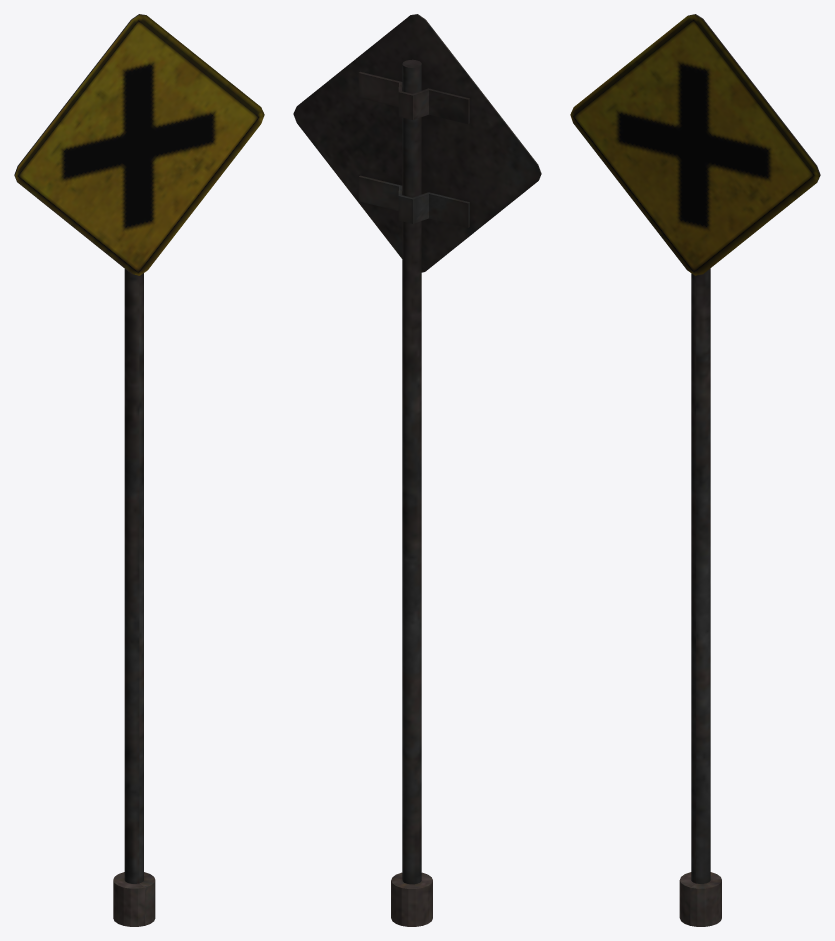
The model's file is ROAD SIGN 9.fbx.
The picture shows the model from 3 angles, left to right: view 1: azimuth 30°, elevation 25°; view 2: azimuth 150°, elevation 25°; view 3: azimuth 330°, elevation 25°; orthographic projection.
Parts seen in each view (by area): view 1: ROAD SIGN 9; view 2: ROAD SIGN 9; view 3: ROAD SIGN 9.
Boxes of the visible parts, x1,y1,x2,y2 form: ROAD SIGN 9: (14, 14, 264, 926); ROAD SIGN 9: (293, 14, 541, 926); ROAD SIGN 9: (570, 14, 820, 926).
Size of the model in its own units: 103 by 359 by 15.15.
